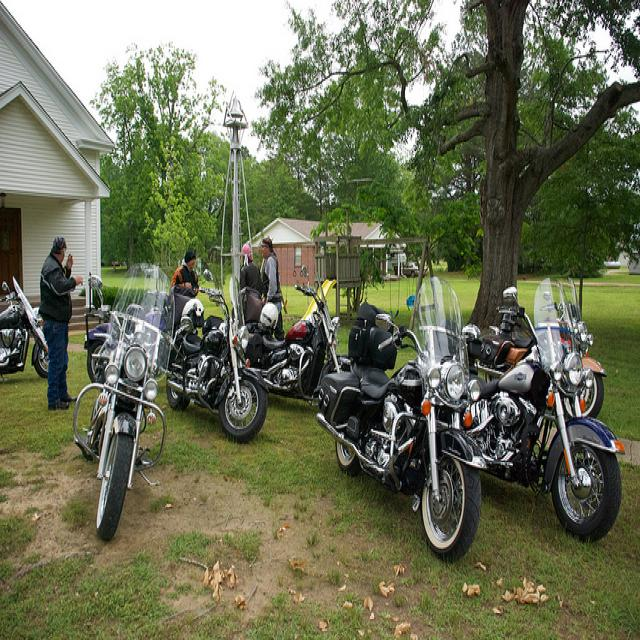motor: (315, 278, 486, 564), (468, 276, 627, 542), (71, 265, 174, 541), (167, 271, 268, 443), (235, 267, 344, 404), (466, 305, 536, 380), (0, 276, 49, 379), (83, 314, 109, 379)
